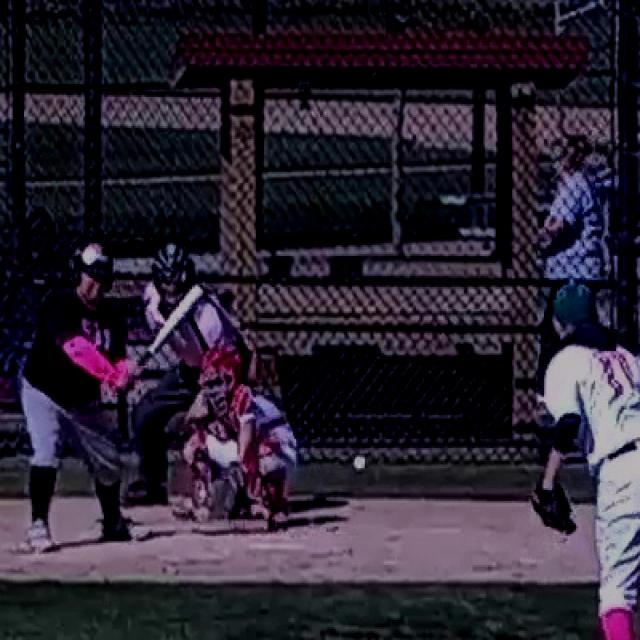baseball: (353, 456, 365, 470)
